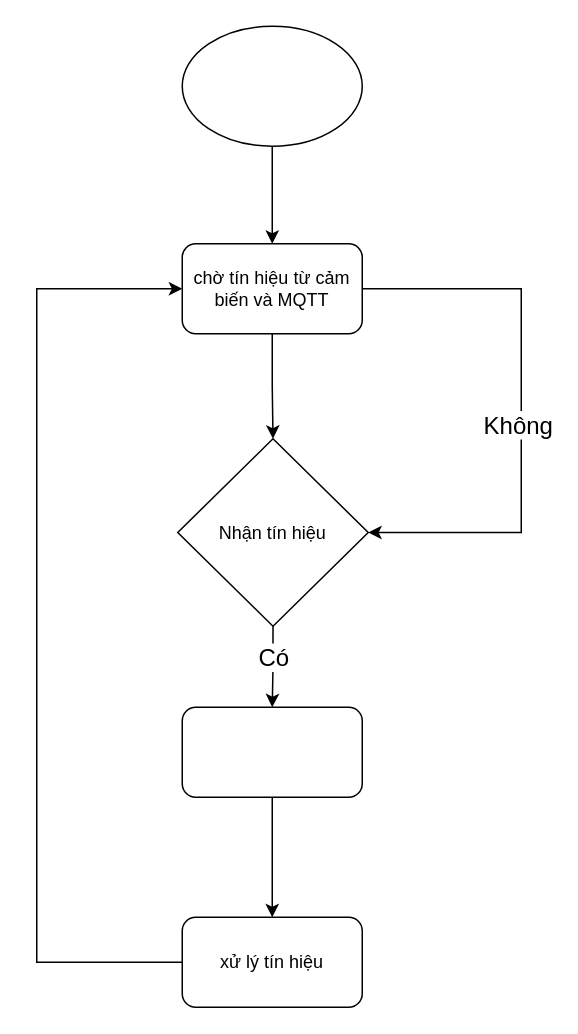
The diagram is 578 pixels wide and 1034 high, and some of its shapes have lost their labels. Each missing label, with the box of its shape:
Bắt đầu: (181, 25, 362, 146)
kiểm tra tín hiệu: (181, 706, 362, 797)
